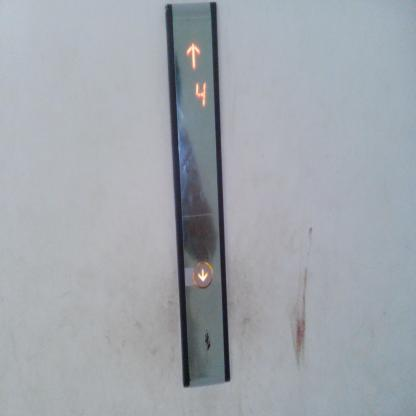down: (192, 261, 213, 289)
led: (169, 14, 219, 137)
